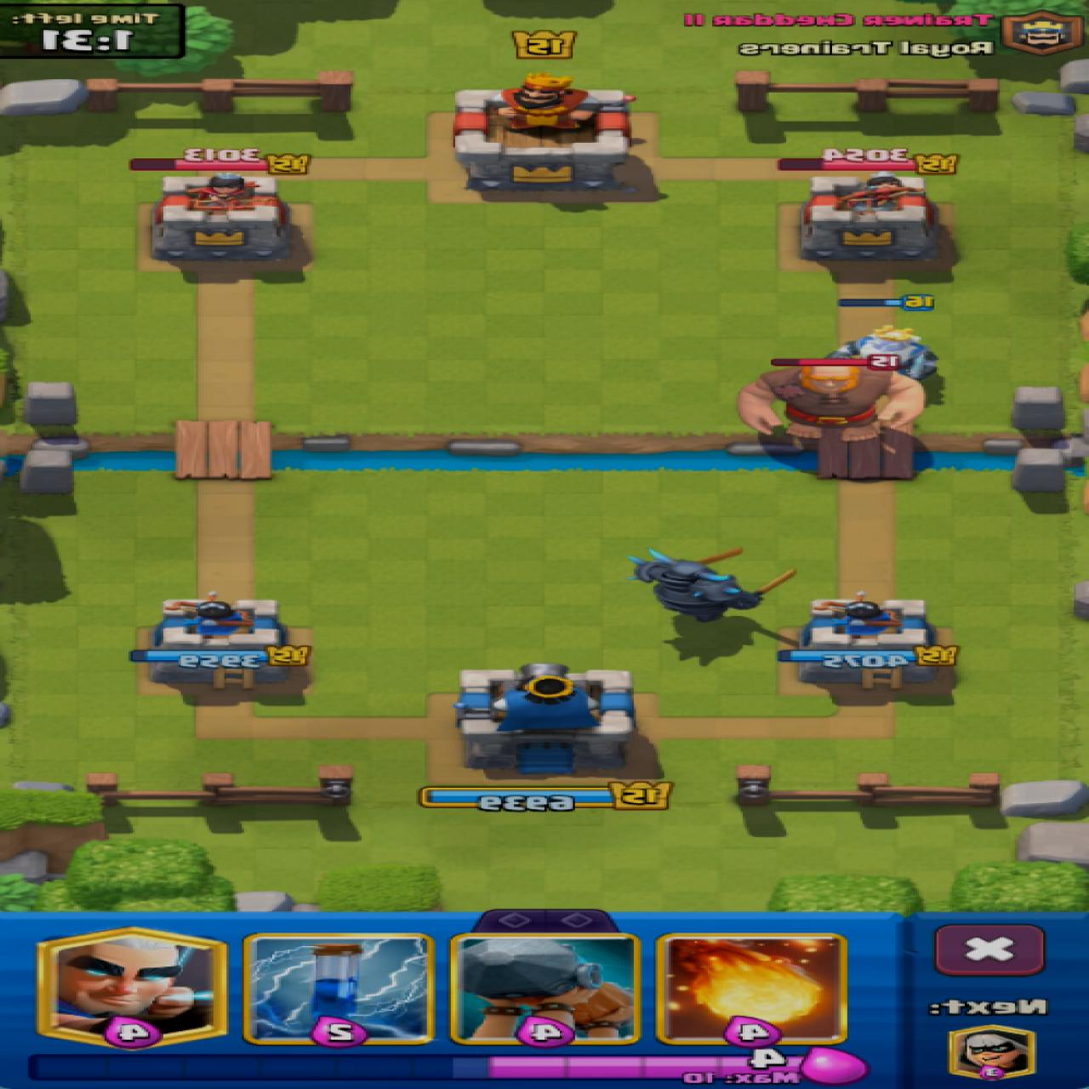Enemy-Giant: (736, 365, 927, 442)
Enemy-KingTower: (455, 76, 629, 192)
Enemy-PrincessTower: (152, 173, 290, 261), (802, 173, 939, 259)
